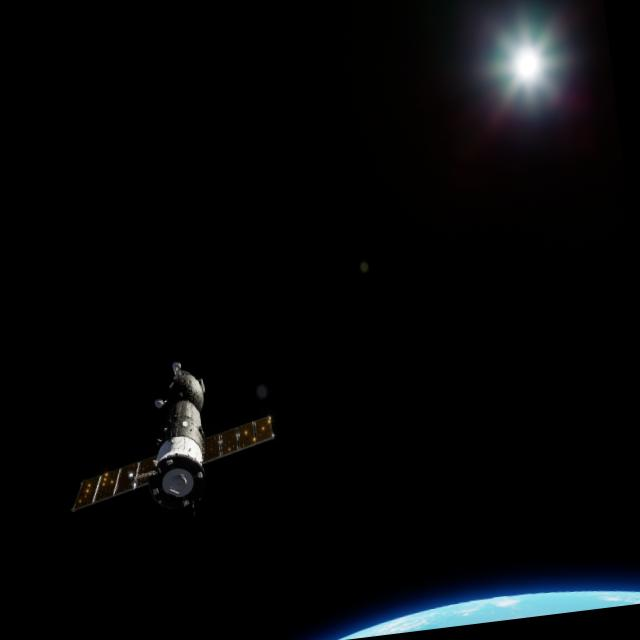Satellites revolving around earth: (52, 347, 286, 530)
